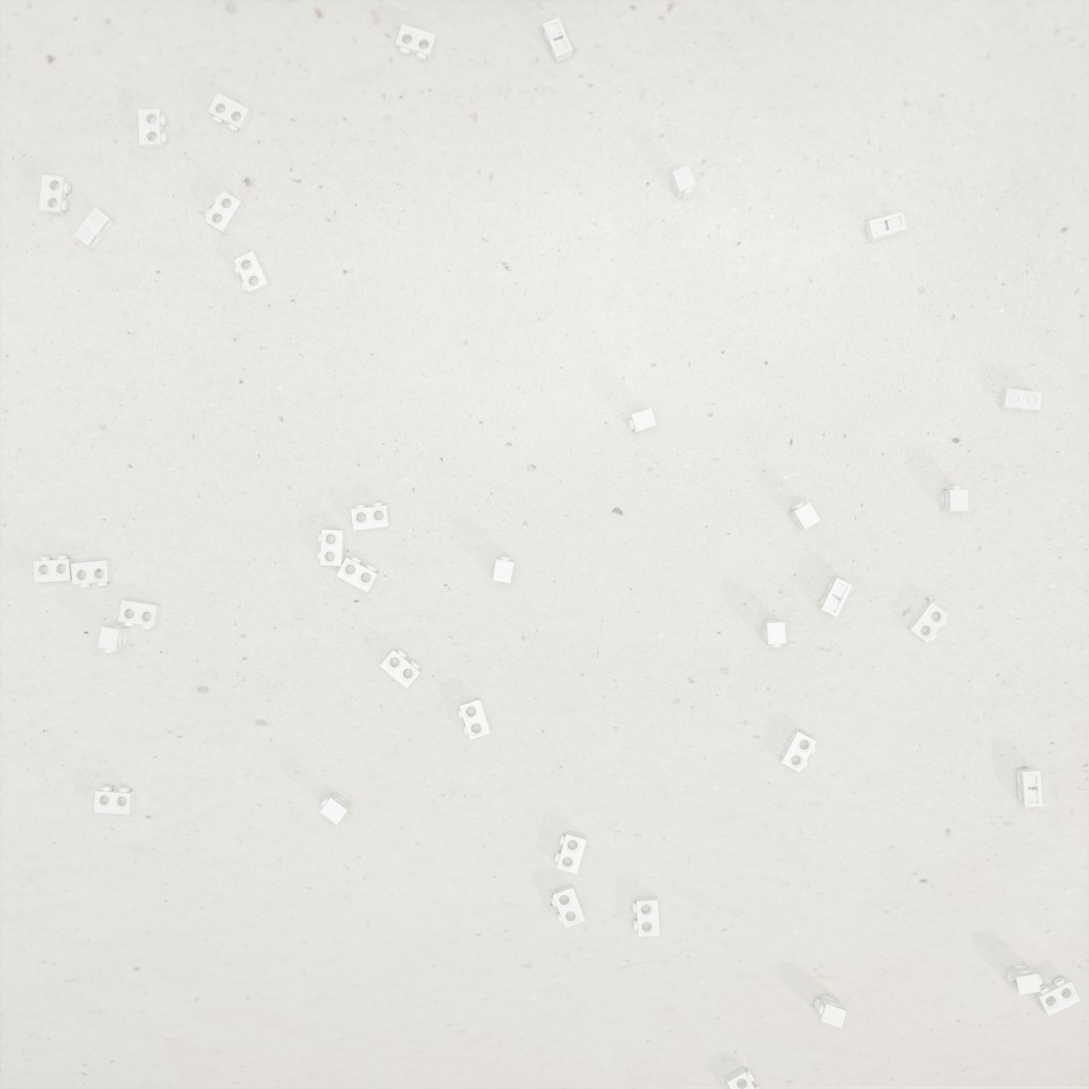lego: (1034, 977, 1080, 1017), (73, 207, 115, 250), (204, 190, 244, 235), (907, 601, 949, 643), (208, 93, 252, 132), (380, 649, 422, 689), (233, 251, 271, 295), (779, 729, 817, 773), (336, 556, 379, 593), (551, 884, 585, 928), (396, 24, 437, 60), (554, 831, 587, 874), (818, 577, 853, 617), (458, 698, 491, 740), (38, 174, 71, 216), (543, 17, 573, 63), (864, 211, 908, 242), (118, 599, 161, 629), (94, 786, 135, 815), (71, 560, 113, 588), (138, 109, 167, 149), (632, 896, 660, 937), (351, 502, 390, 531), (814, 994, 847, 1028), (1006, 964, 1042, 995), (33, 556, 75, 582), (320, 792, 352, 825), (1016, 768, 1043, 807), (999, 388, 1042, 412), (317, 530, 345, 566), (669, 165, 697, 200), (789, 501, 821, 530), (725, 1066, 763, 1089), (98, 625, 129, 653), (627, 408, 657, 434), (941, 486, 968, 512), (762, 620, 786, 647), (493, 556, 515, 583)
